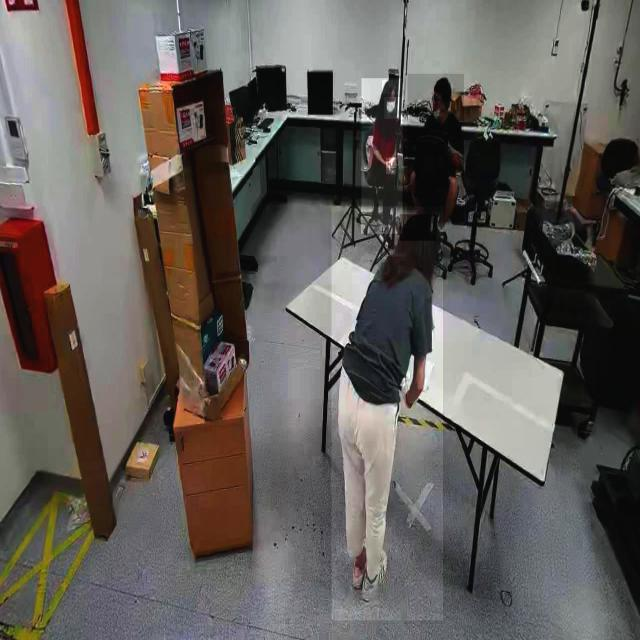face_mask: (384, 97, 400, 119)
hand_noglove: (386, 158, 396, 175), (388, 157, 396, 169)
head_nohelmet: (399, 214, 437, 242), (434, 77, 452, 91), (382, 80, 398, 95)
person: (331, 206, 443, 622), (407, 74, 464, 223), (361, 78, 403, 234)
shoes: (360, 545, 390, 607), (349, 534, 373, 596)
